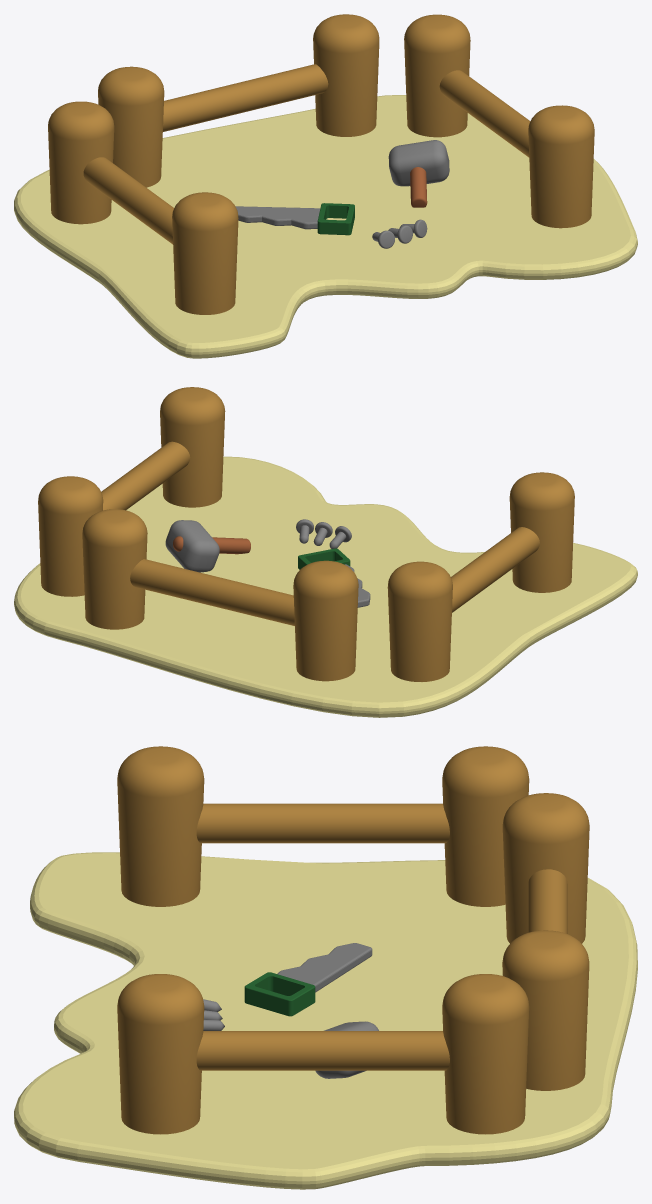
The model's file is building base.fbx.
3 views of the same model, one above another, from view 1: azimuth 30°, elevation 25°; view 2: azimuth 150°, elevation 25°; view 3: azimuth 270°, elevation 25° (orthographic). The views are drawn at different scales.
Visible parts, largest first — view 1: Cylinder.055; view 2: Cylinder.055; view 3: Cylinder.055.
Part boxes in pixels (bbox=[...]): Cylinder.055: bbox=[14, 14, 637, 358]; Cylinder.055: bbox=[14, 387, 637, 717]; Cylinder.055: bbox=[14, 746, 637, 1189].
Size of the model in its own units: 25010 by 5525 by 20360.
